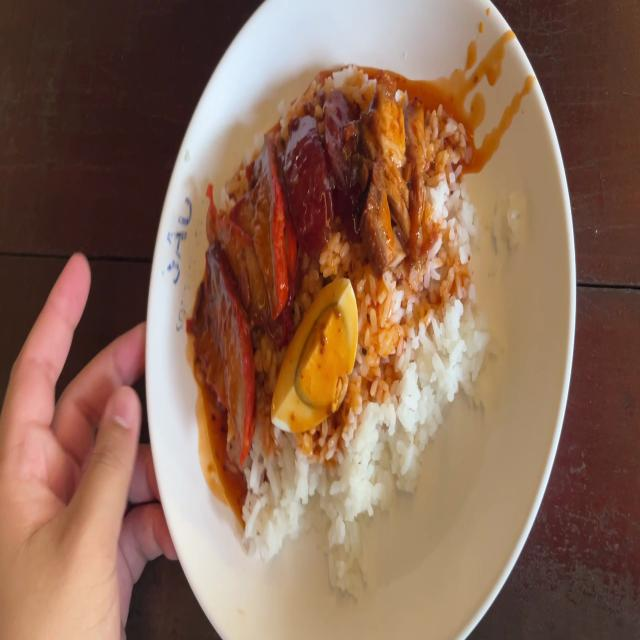01boiled_egg: (277, 281, 353, 435)
01chainese_sausage: (286, 92, 357, 239)
01crispy_pork: (373, 86, 430, 270)
01red_pork: (205, 150, 283, 454)
01red_pork_and_crispy_pork: (198, 84, 486, 536)
01rice: (353, 272, 477, 524)
